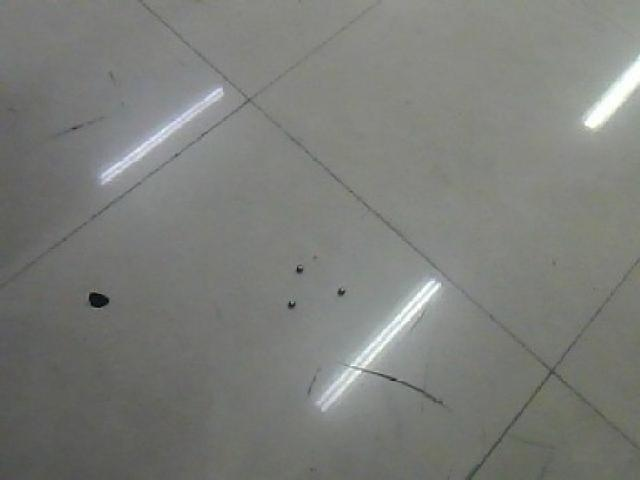steel-ball: (284, 244, 308, 278), (276, 284, 298, 314), (326, 278, 346, 299)
